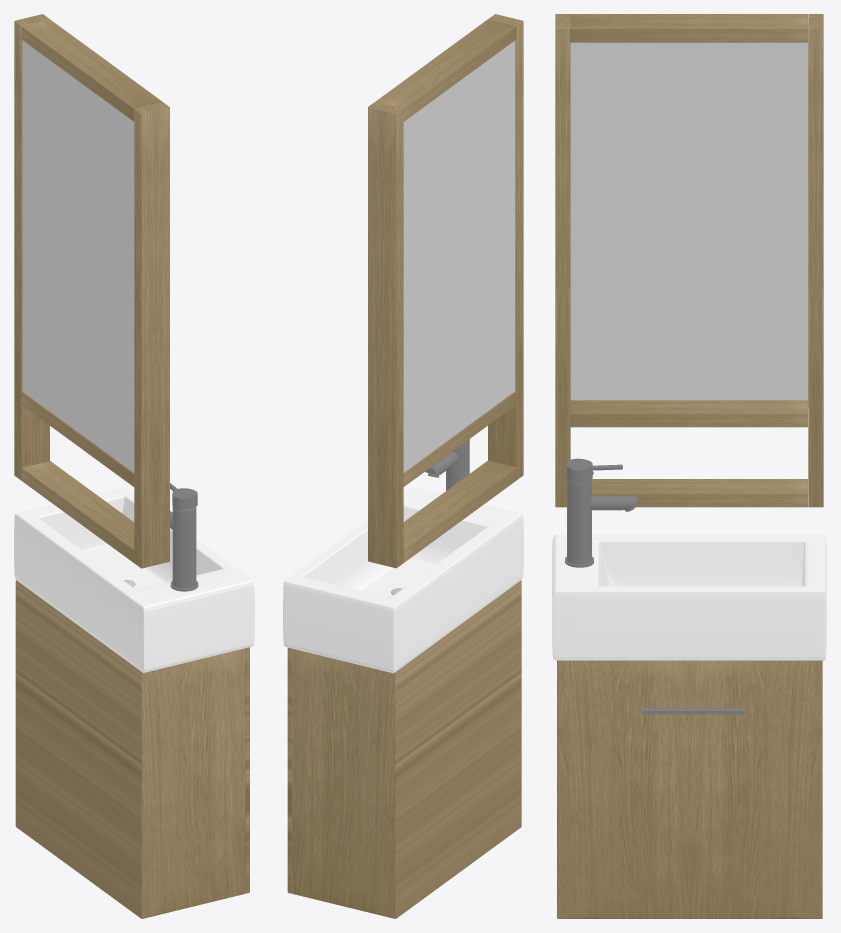
File: RN-8307-MUEBLE-BE (1).glb
3 renders of one model, left to right at view 1: azimuth 30°, elevation 25°; view 2: azimuth 150°, elevation 25°; view 3: azimuth 270°, elevation 25°, orthographic. The views are drawn at different scales.
Parts seen in each view (by area): view 1: ChamferBox005, Box003, Box002, Cylinder001; view 2: ChamferBox005, Box003, Box002, Cylinder001; view 3: ChamferBox005, Box003, Box002, Cylinder001, Manija1.
Part boxes in pixels (left/top/right/bottom): ChamferBox005: left=14, top=14, right=249, bottom=918; Box003: left=22, top=40, right=134, bottom=472; Box002: left=14, top=487, right=254, bottom=672; Cylinder001: left=170, top=483, right=198, bottom=591; ChamferBox005: left=287, top=14, right=523, bottom=918; Box003: left=403, top=40, right=515, bottom=472; Box002: left=283, top=487, right=523, bottom=673; Cylinder001: left=425, top=439, right=469, bottom=490; ChamferBox005: left=555, top=14, right=823, bottom=918; Box003: left=570, top=23, right=808, bottom=407; Box002: left=552, top=534, right=826, bottom=660; Cylinder001: left=565, top=458, right=637, bottom=567; Manija1: left=642, top=708, right=744, bottom=714.
Bounding box in the file's own units: 0.2402 × 1.61 × 0.4709.
Materials: 4 (1 with a texture image).
